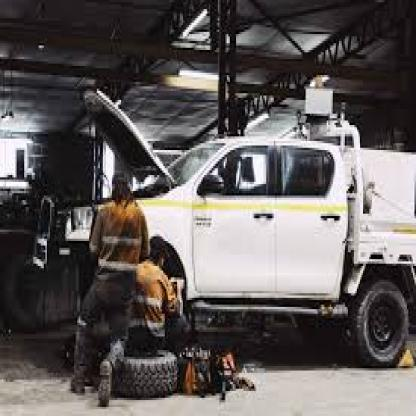light_vehicle: (44, 71, 414, 400)
person: (65, 152, 147, 396)
